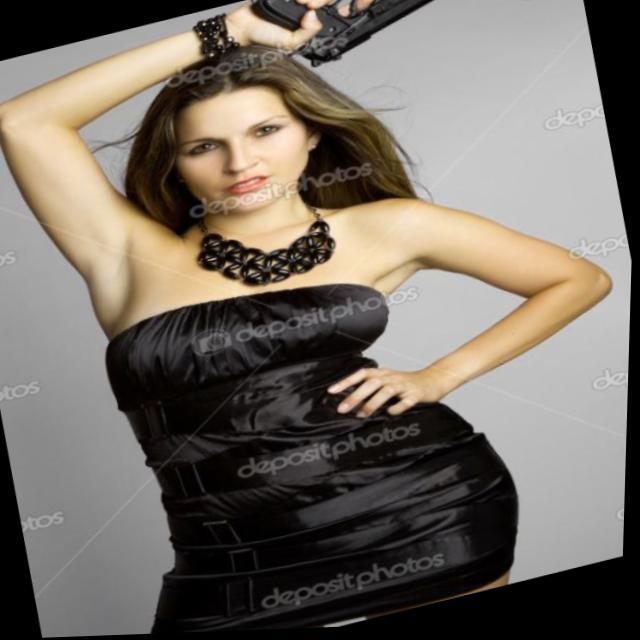weapon: (245, 0, 470, 83)
